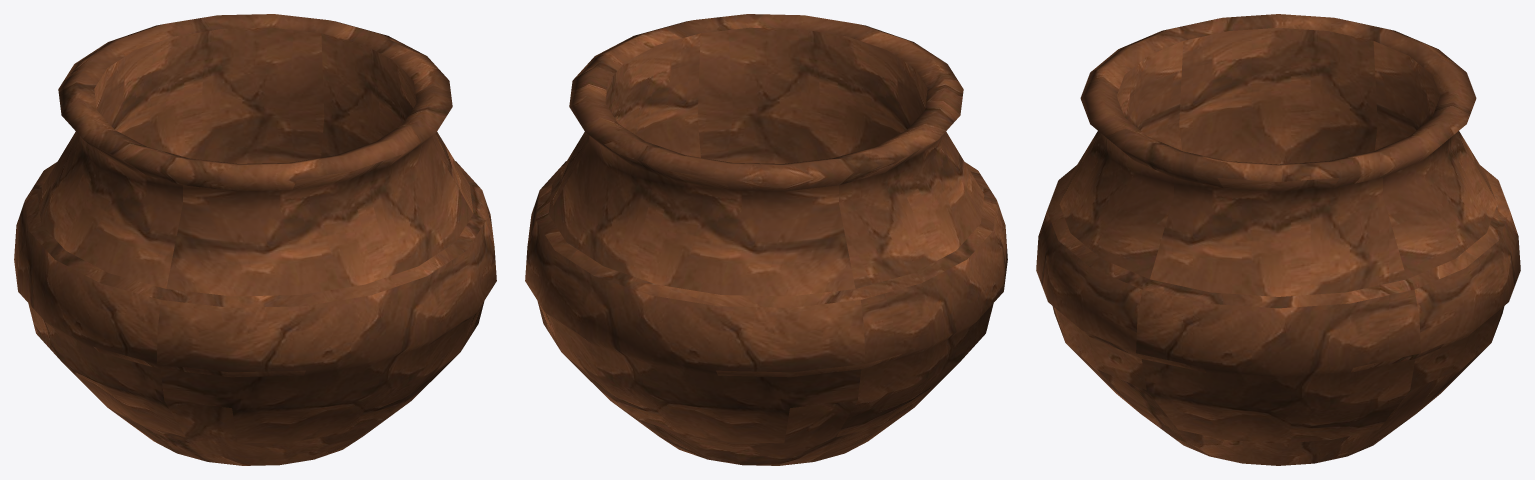
Rendered from furn_vase_wide.glb.
3 renders of one model, left to right at view 1: azimuth 30°, elevation 25°; view 2: azimuth 150°, elevation 25°; view 3: azimuth 270°, elevation 25°, orthographic.
Parts seen in each view (by area): view 1: model; view 2: model; view 3: model.
Boxes of the visible parts, left/top/right/bottom form: model: left=14, top=14, right=496, bottom=465; model: left=525, top=14, right=1007, bottom=465; model: left=1036, top=14, right=1520, bottom=465.
Bounding box in the file's own units: 0.6947 × 0.5163 × 0.6947.
1 material, 1 textured.
